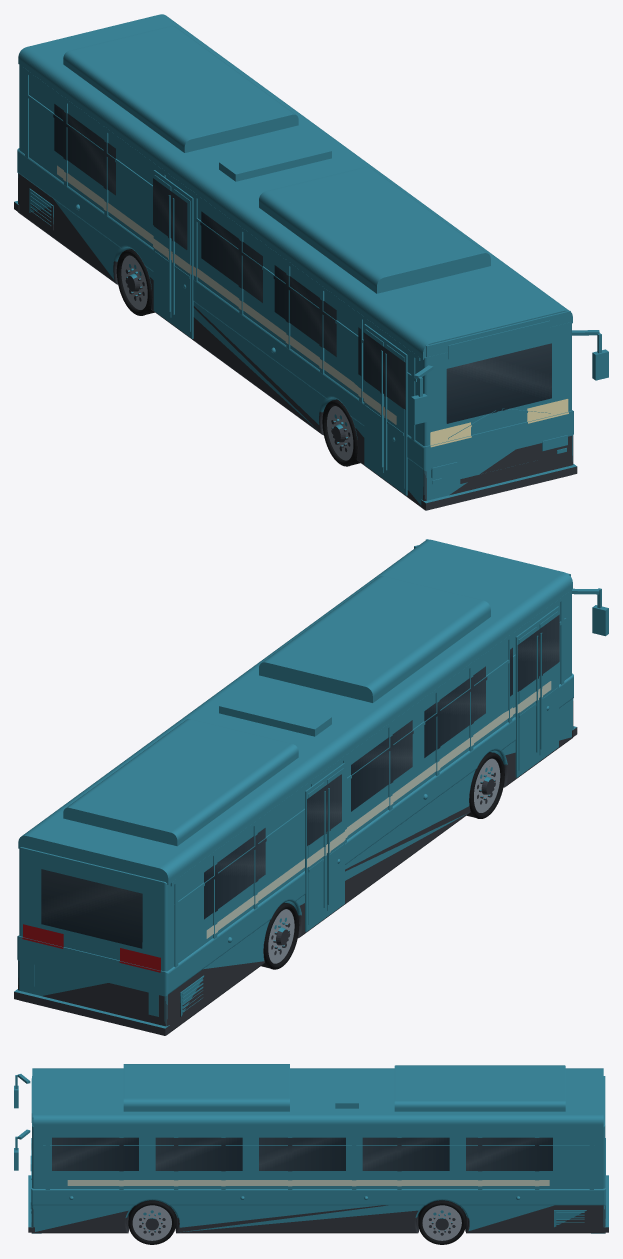
Rendered from bus.obj.
3 views of the same model, one above another, from view 1: azimuth 30°, elevation 25°; view 2: azimuth 150°, elevation 25°; view 3: azimuth 270°, elevation 25° (orthographic). The views are drawn at different scales.
Visible parts, largest first — view 1: bus; view 2: bus; view 3: bus.
Part boxes in pixels (x1,y1,x2,y2): bus: [14, 14, 608, 510]; bus: [14, 539, 608, 1035]; bus: [14, 1064, 608, 1244].
Bounding box in the file's own units: 2.5 × 2.41 × 9.4.
Materials: 8 (1 with a texture image).
